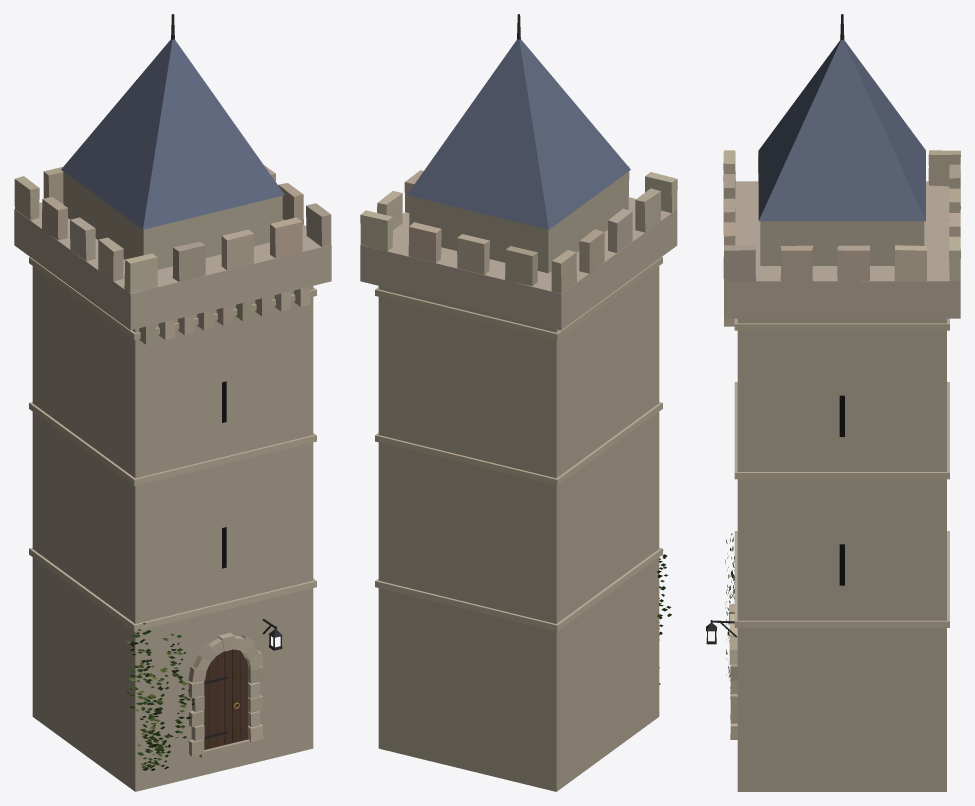
The model's file is torre_muralla.glb.
The picture shows the model from 3 angles, left to right: view 1: azimuth 30°, elevation 25°; view 2: azimuth 150°, elevation 25°; view 3: azimuth 270°, elevation 25°; orthographic projection. The views are drawn at different scales.
Visible parts, largest first — view 1: torre_muralla_fijo, torre_muralla_vegetacion; view 2: torre_muralla_fijo; view 3: torre_muralla_fijo.
Boxes of the visible parts, x1,y1,x2,y2 form: torre_muralla_fijo: (14, 14, 331, 791); torre_muralla_vegetacion: (126, 622, 194, 770); torre_muralla_fijo: (360, 14, 677, 791); torre_muralla_fijo: (706, 14, 960, 791).
Size of the model in its own units: 5.22 by 17.75 by 5.59.
